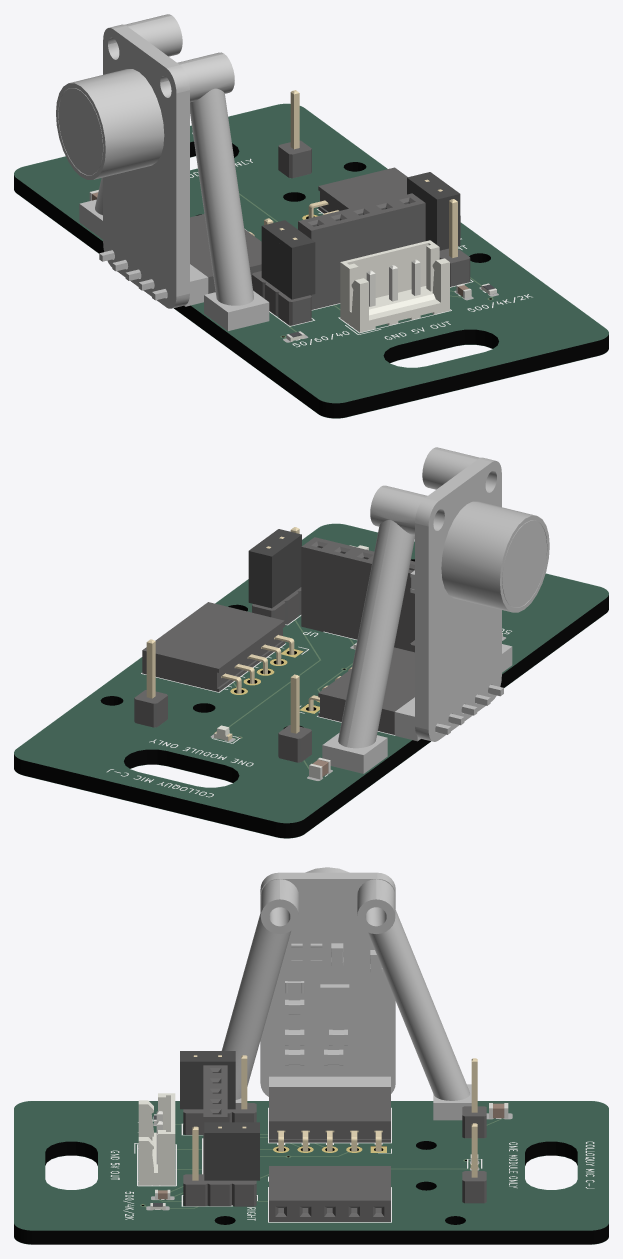
Rendered from microphone-flex-left.glb.
3 views of the same model, one above another, from view 1: azimuth 30°, elevation 25°; view 2: azimuth 150°, elevation 25°; view 3: azimuth 270°, elevation 25° (orthographic). The views are drawn at different scales.
Visible parts, largest first — view 1: microphone-flex-left_visual_layers_1, microphone-flex-left_visual_layers_4, VISUAL_MODULE_LEFT, VISUAL_MODULE_LEFT.001, J1, M1, JP1.001, J3, JP2.001, J2, TP1, JP1 (+2 smaller); view 2: microphone-flex-left_visual_layers_1, microphone-flex-left_visual_layers_4, VISUAL_MODULE_LEFT, VISUAL_MODULE_LEFT.001, J3, M1, JP2.001, J2, TP2, TP1, microphone-flex-left_visual_layers_7, JP2 (+1 smaller); view 3: microphone-flex-left_visual_layers_1, microphone-flex-left_visual_layers_4, VISUAL_MODULE_LEFT, VISUAL_MODULE_LEFT.001, J2, J3, JP2.001, J1, JP2, JP1.001, microphone-flex-left_visual_layers_7, M1 (+3 smaller).
Part boxes in pixels (x1,y1,x2,y2): microphone-flex-left_visual_layers_1: (14,104,608,418); microphone-flex-left_visual_layers_4: (14,103,608,403); VISUAL_MODULE_LEFT: (56,24,208,308); VISUAL_MODULE_LEFT.001: (79,14,269,330); J1: (340,240,449,332); M1: (298,193,425,309); JP1.001: (261,220,315,299); J3: (308,167,460,238); JP2.001: (407,172,460,250); J2: (190,214,261,293); TP1: (278,90,311,178); JP1: (252,218,311,325); microphone-flex-left_visual_layers_1: (14,524,608,838); microphone-flex-left_visual_layers_4: (14,523,608,823); VISUAL_MODULE_LEFT: (394,457,549,741); VISUAL_MODULE_LEFT.001: (322,447,512,773); J3: (142,602,294,693); M1: (301,537,414,650); JP2.001: (248,529,301,608); J2: (308,647,414,734); TP2: (278,674,311,762); TP1: (134,639,167,727); microphone-flex-left_visual_layers_7: (106,615,511,797); JP2: (252,527,301,627); microphone-flex-left_visual_layers_1: (14,1101,608,1244); microphone-flex-left_visual_layers_4: (14,1101,608,1230); VISUAL_MODULE_LEFT: (260,867,395,1096); VISUAL_MODULE_LEFT.001: (221,879,471,1120); J2: (269,1087,390,1151); J3: (269,1166,390,1221); JP2.001: (204,1122,259,1180); J1: (138,1093,175,1185); JP2: (183,1126,256,1206); JP1.001: (180,1051,235,1109); microphone-flex-left_visual_layers_7: (110,1107,594,1222); M1: (203,1065,227,1174).
Bounding box in the file's own units: 0.0407 × 0.0286 × 0.062.
